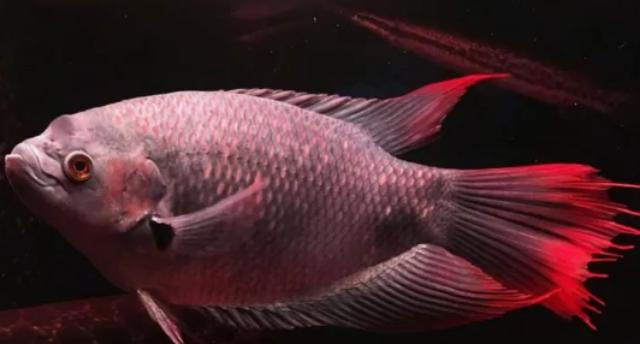Mulut: (0, 120, 68, 230)
Sirip Dada: (139, 166, 293, 274)
Sirip Ekor: (392, 148, 640, 336)
Sirip Perut: (126, 276, 192, 344)
Sirip Punggung: (216, 68, 518, 163)
